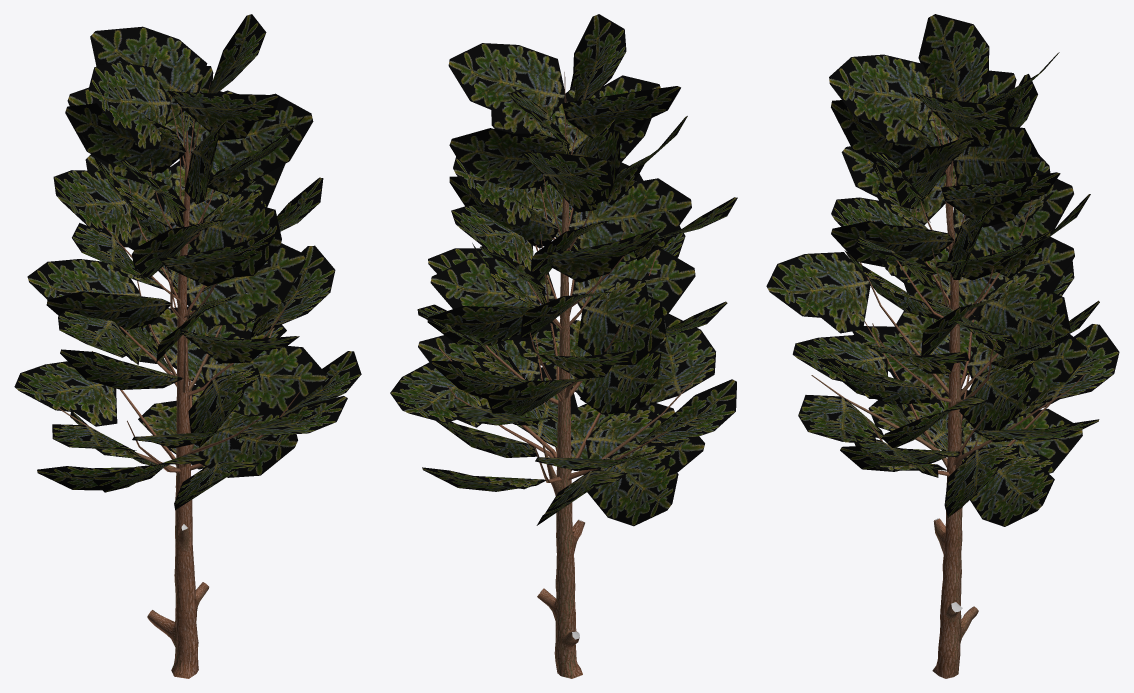
The model's file is ARBOL_PRINCIPAL_SEPARADO.fbx.
The picture shows the model from 3 angles, left to right: view 1: azimuth 30°, elevation 25°; view 2: azimuth 150°, elevation 25°; view 3: azimuth 270°, elevation 25°; orthographic projection.
Parts seen in each view (by area): view 1: LOD0.001, LOD0; view 2: LOD0.001, LOD0; view 3: LOD0.001, LOD0.
Part boxes in pixels (box(x1,y1,x2,y2)): LOD0.001: box(14, 14, 361, 510); LOD0: box(58, 79, 290, 678); LOD0.001: box(390, 14, 737, 526); LOD0: box(438, 72, 710, 678); LOD0.001: box(766, 14, 1119, 526); LOD0: box(860, 77, 1084, 678).
Bounding box in the file's own units: 39.09 × 76.36 × 39.85.
